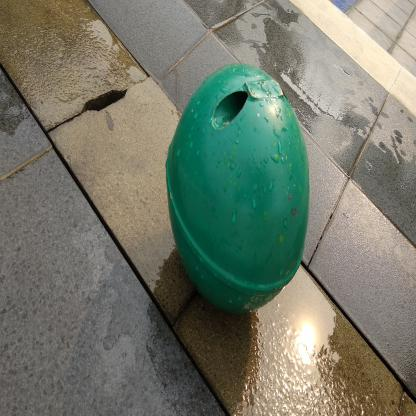green_buoy: (162, 60, 316, 324)
